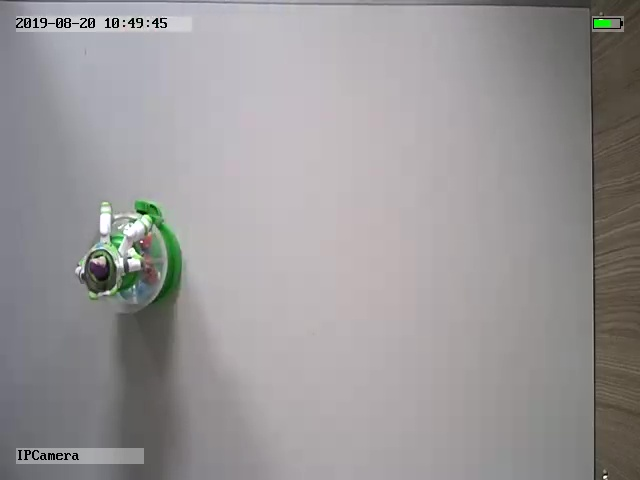buzz: (73, 197, 185, 317)
